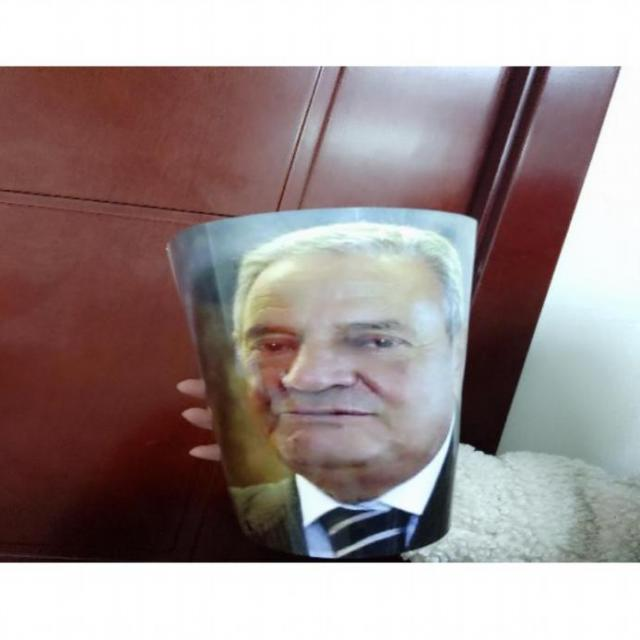photo: (163, 201, 479, 556)
